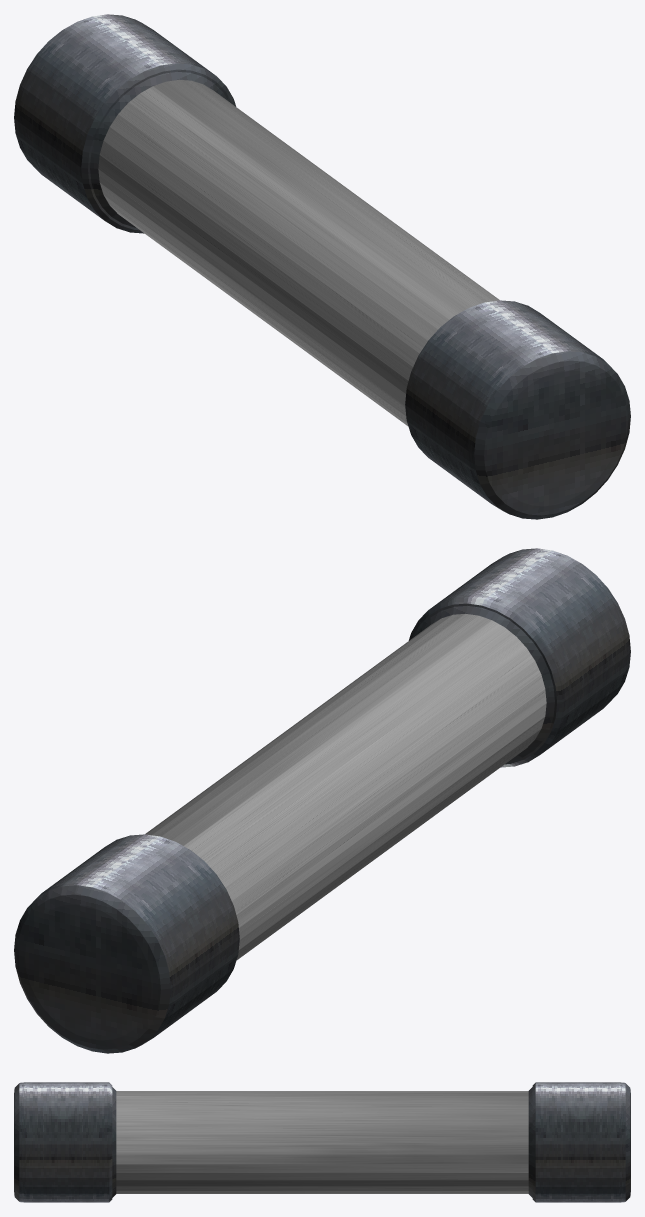
File: Fuse.fbx
3 renders of one model, top to bottom at view 1: azimuth 30°, elevation 25°; view 2: azimuth 150°, elevation 25°; view 3: azimuth 270°, elevation 25°, orthographic. The views are drawn at different scales.
Parts seen in each view (by area): view 1: Cylinder.004; view 2: Cylinder.004; view 3: Cylinder.004.
Part boxes in pixels (left/top/right/bottom): Cylinder.004: left=14, top=14, right=630, bottom=519; Cylinder.004: left=14, top=548, right=630, bottom=1053; Cylinder.004: left=14, top=1082, right=630, bottom=1202.
Size of the model in its own units: 5.1 by 5.1 by 26.09.
Materials: 2 (2 with a texture image).
